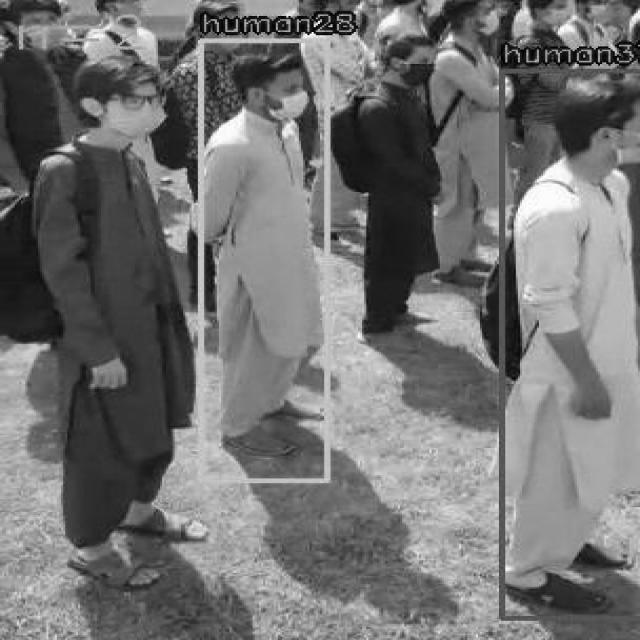person: (499, 68, 640, 618), (198, 38, 326, 480)
